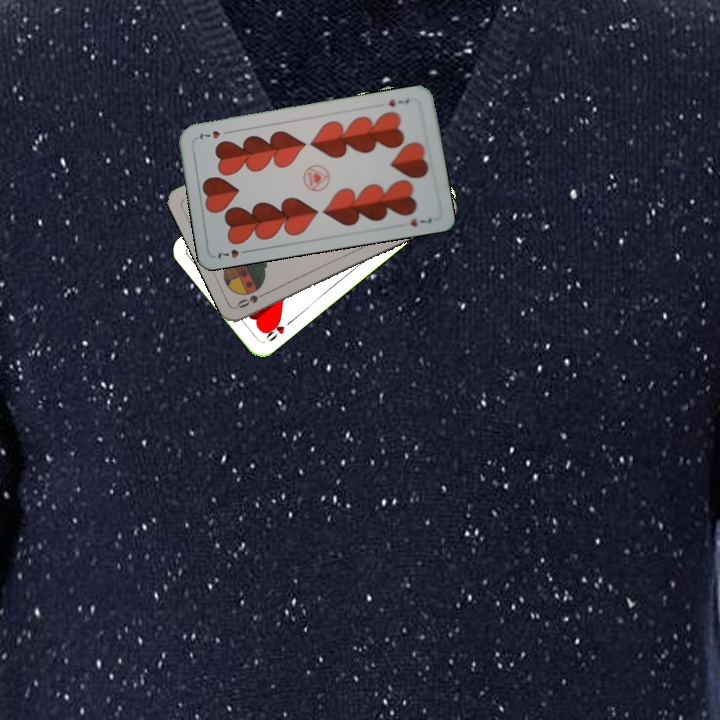H7: (214, 245, 253, 261), (384, 95, 412, 109)
HO: (260, 315, 296, 344)
SO: (233, 287, 272, 311)
